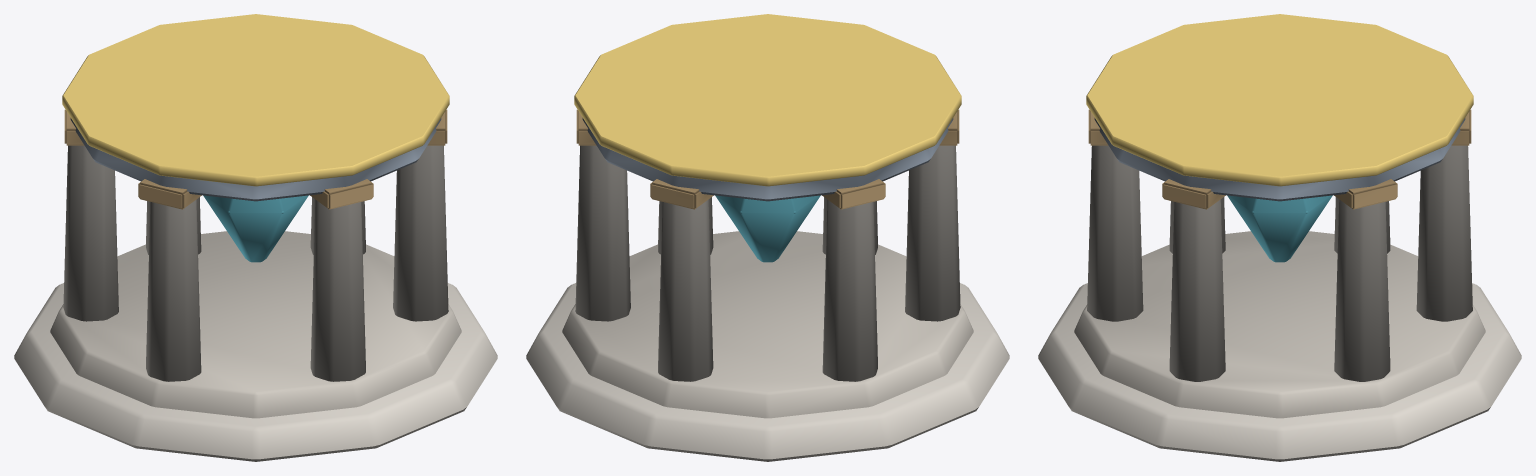
The model's file is clan_hall_shield_dome_lod0.glb.
3 renders of one model, left to right at view 1: azimuth 30°, elevation 25°; view 2: azimuth 150°, elevation 25°; view 3: azimuth 270°, elevation 25°, orthographic.
Visible parts, largest first — view 1: clan_hall_shield_dome; view 2: clan_hall_shield_dome; view 3: clan_hall_shield_dome.
Part boxes in pixels (<box>): clan_hall_shield_dome: <box>14,14,497,461</box>; clan_hall_shield_dome: <box>526,14,1009,461</box>; clan_hall_shield_dome: <box>1038,14,1521,461</box>.
Bounding box in the file's own units: 3.64 × 2.2 × 3.64.
